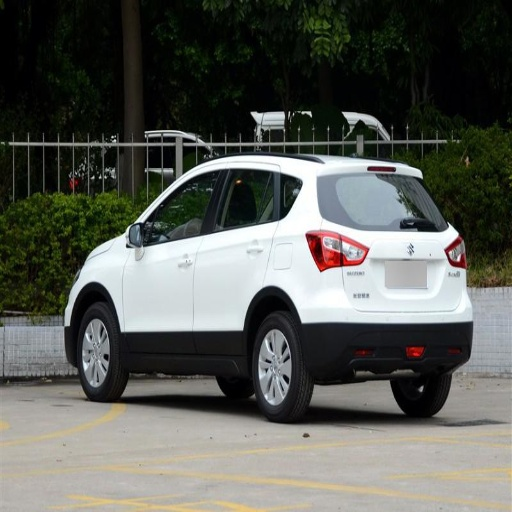back_bumper: (296, 272, 473, 381)
back_glass: (318, 171, 447, 230)
back_left_door: (196, 167, 277, 353)
trunk: (330, 230, 460, 316)
